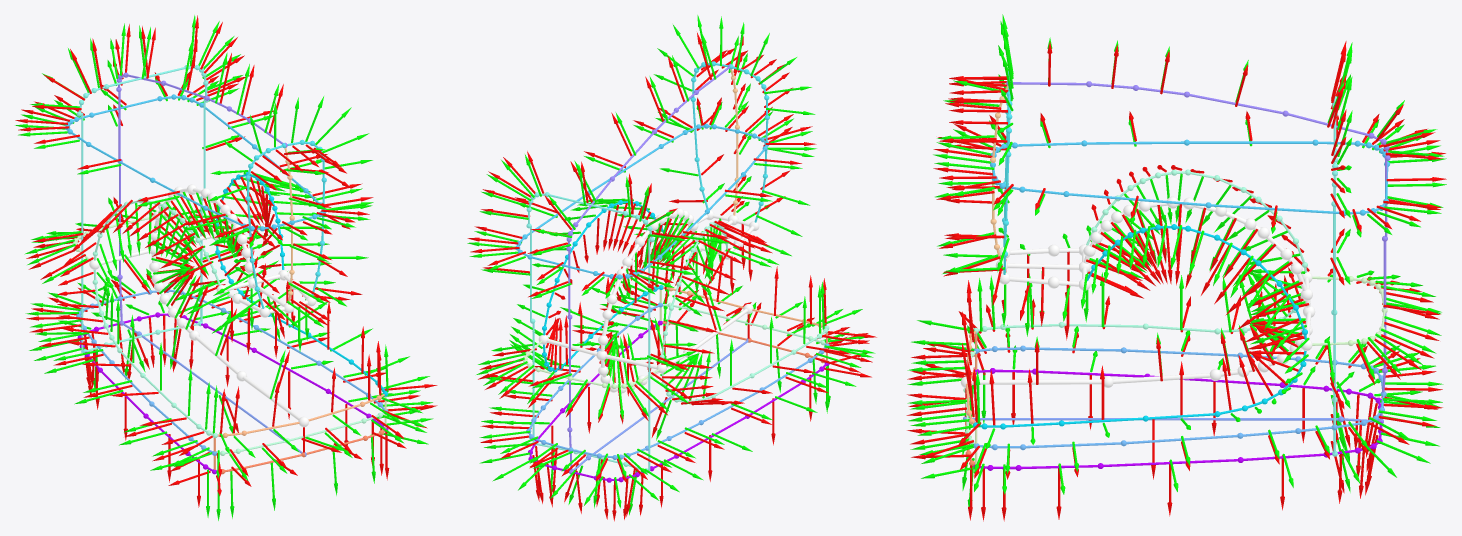
Rendered from t2f_sewing_machine.gltf.
The picture shows the model from 3 angles, left to right: view 1: azimuth 30°, elevation 25°; view 2: azimuth 150°, elevation 25°; view 3: azimuth 270°, elevation 25°; orthographic projection. The views are drawn at different scales.
Bounding box in the file's own units: 0.583 × 0.8084 × 0.8865.
